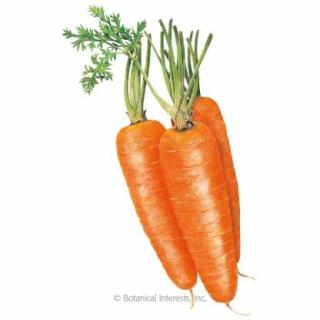Wortel: (159, 124, 241, 303), (116, 121, 201, 290)
